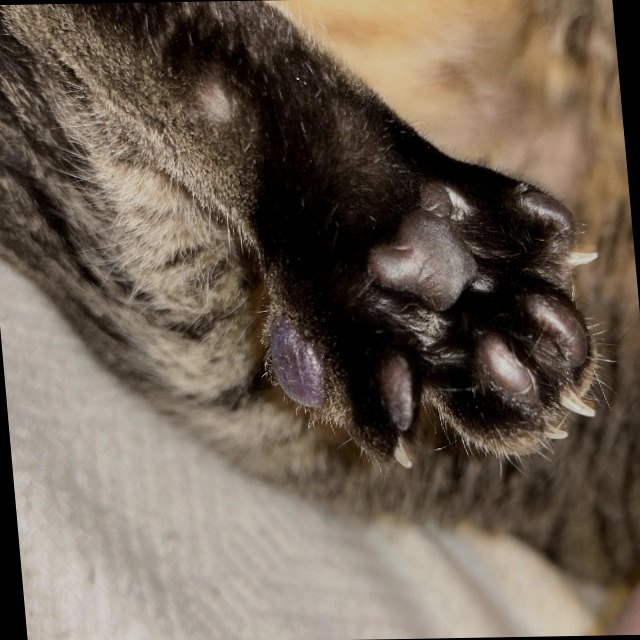lump_and_bump: (266, 314, 336, 418)
